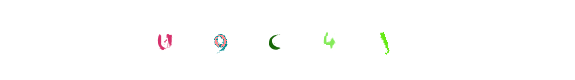4: (247, 0, 327, 80)
9: (191, 0, 271, 80)
C: (232, 0, 312, 80)
J: (318, 0, 398, 80)
U: (144, 0, 224, 80)
